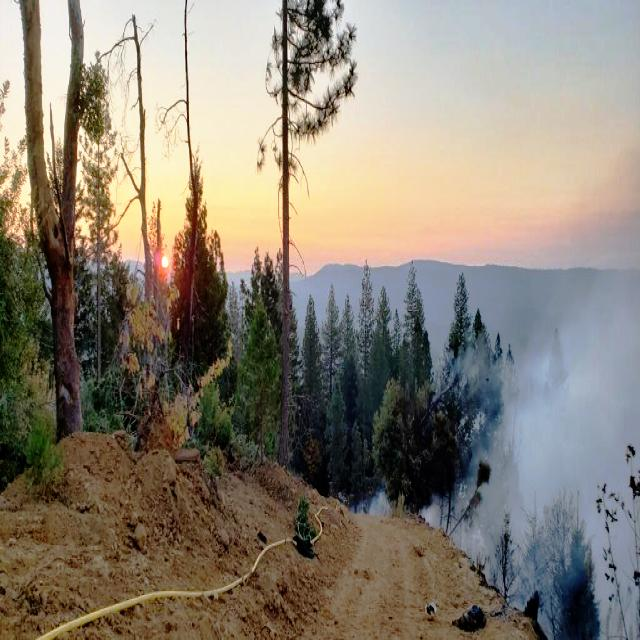asap: (414, 192, 640, 639), (338, 477, 394, 522)
